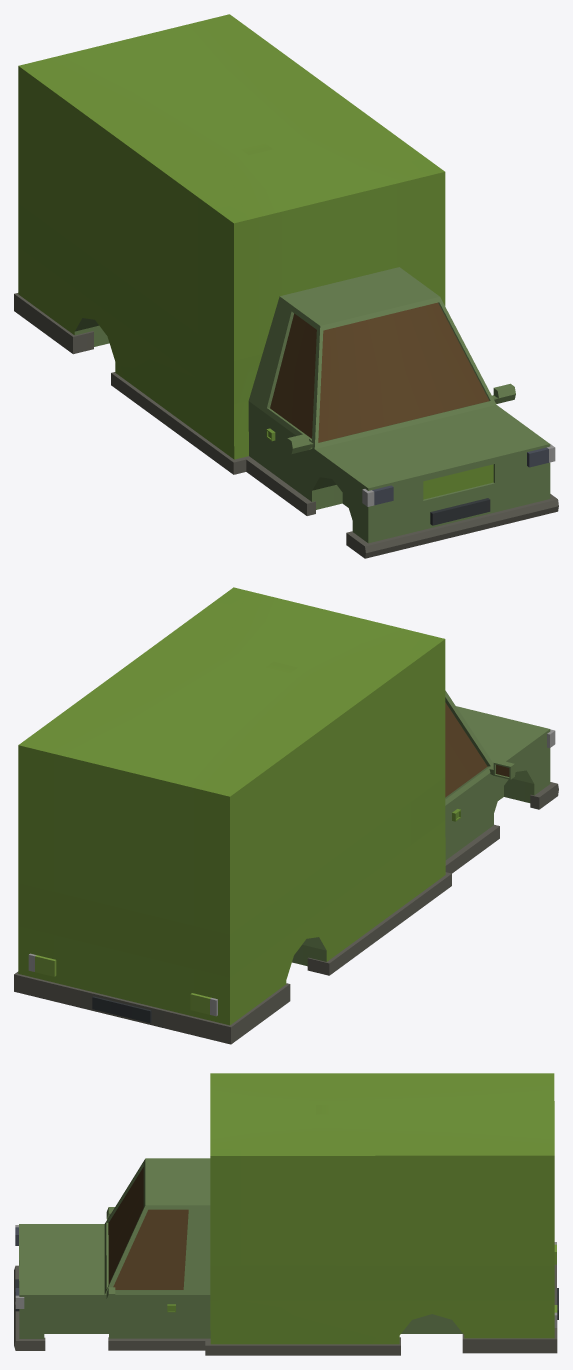
The model's file is Car_12.fbx.
3 renders of one model, top to bottom at view 1: azimuth 30°, elevation 25°; view 2: azimuth 150°, elevation 25°; view 3: azimuth 270°, elevation 25°, orthographic. The views are drawn at different scales.
Parts seen in each view (by area): view 1: Car_12; view 2: Car_12; view 3: Car_12.
Part boxes in pixels (box(x1,y1,x2,y2)): Car_12: box(14, 14, 558, 558); Car_12: box(14, 587, 558, 1044); Car_12: box(14, 1073, 558, 1355).
Bounding box in the file's own units: 1.97 × 2.09 × 5.21.
